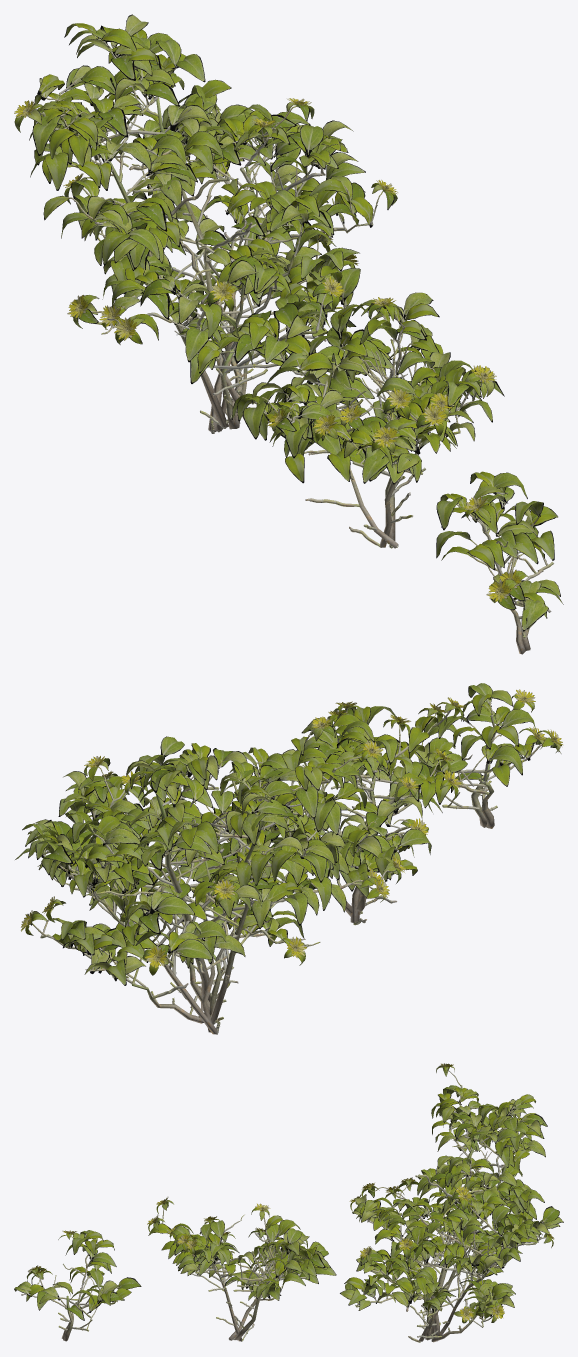
Rendered from didelta_spinosa_1k.gltf.
3 views of the same model, one above another, from view 1: azimuth 30°, elevation 25°; view 2: azimuth 150°, elevation 25°; view 3: azimuth 270°, elevation 25° (orthographic). The views are drawn at different scales.
Parts seen in each view (by area): view 1: didelta_spinosa_large_LOD0, didelta_spinosa_medium_LOD0, didelta_spinosa_small_LOD0; view 2: didelta_spinosa_large_LOD0, didelta_spinosa_medium_LOD0, didelta_spinosa_small_LOD0; view 3: didelta_spinosa_large_LOD0, didelta_spinosa_medium_LOD0, didelta_spinosa_small_LOD0.
Boxes of the visible parts, x1,y1,x2,y2 form: didelta_spinosa_large_LOD0: [14, 14, 397, 433]; didelta_spinosa_medium_LOD0: [231, 292, 504, 548]; didelta_spinosa_small_LOD0: [436, 471, 563, 654]; didelta_spinosa_large_LOD0: [15, 736, 406, 1034]; didelta_spinosa_medium_LOD0: [224, 697, 465, 925]; didelta_spinosa_small_LOD0: [414, 683, 562, 828]; didelta_spinosa_large_LOD0: [340, 1063, 563, 1342]; didelta_spinosa_medium_LOD0: [147, 1197, 336, 1341]; didelta_spinosa_small_LOD0: [14, 1230, 141, 1341].
Size of the model in its own units: 2.12 by 2.07 by 4.56.
1 material, 1 textured.
